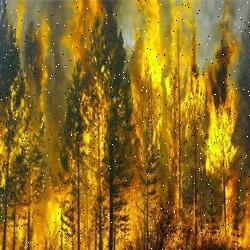fire: (130, 0, 250, 166), (133, 171, 250, 250), (53, 0, 116, 68), (16, 186, 82, 250), (75, 85, 115, 183)
